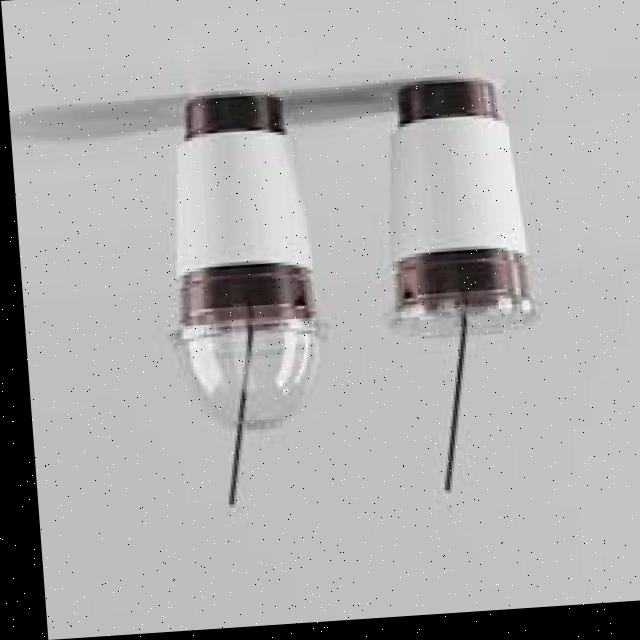cup: (380, 81, 533, 325), (171, 98, 308, 328)
